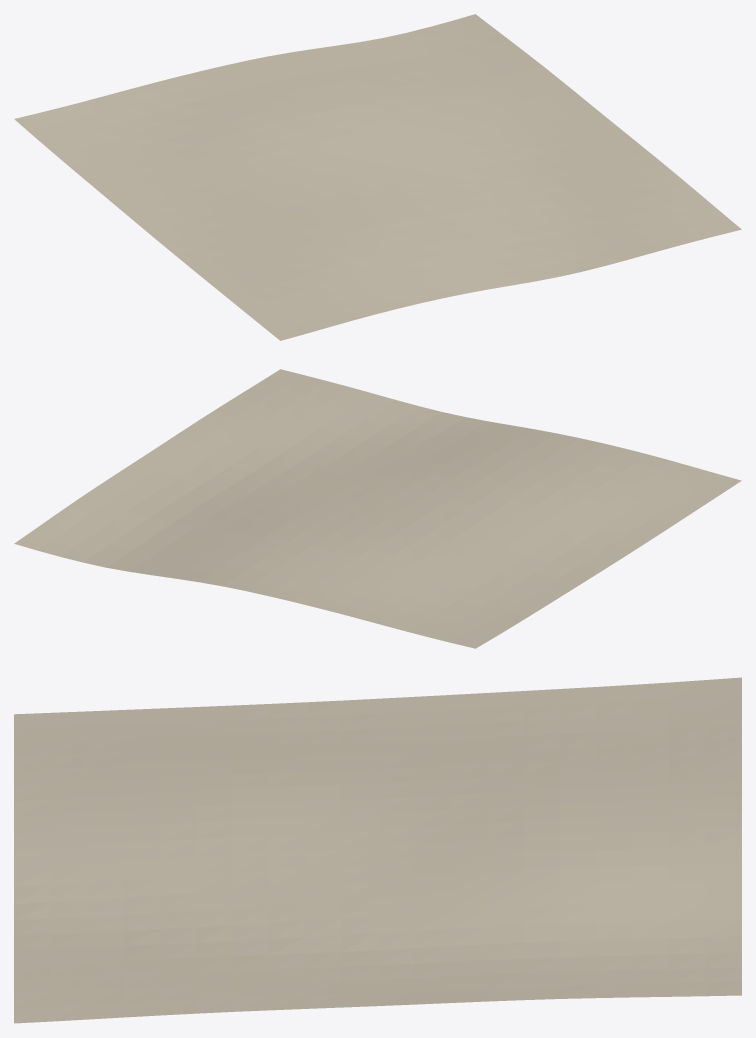
Rendered from bolak_10_-7.glb.
The picture shows the model from 3 angles, top to bottom: view 1: azimuth 30°, elevation 25°; view 2: azimuth 150°, elevation 25°; view 3: azimuth 270°, elevation 25°; orthographic projection. The views are drawn at different scales.
Visible parts, largest first — view 1: Yer_Tuproq-col; view 2: Yer_Tuproq-col; view 3: Yer_Tuproq-col.
Part boxes in pixels (box(x1,y1,x2,y2)): Yer_Tuproq-col: box(14, 14, 741, 340); Yer_Tuproq-col: box(14, 369, 741, 648); Yer_Tuproq-col: box(14, 677, 741, 1023).
Size of the model in its own units: 400 by 27.86 by 400.
